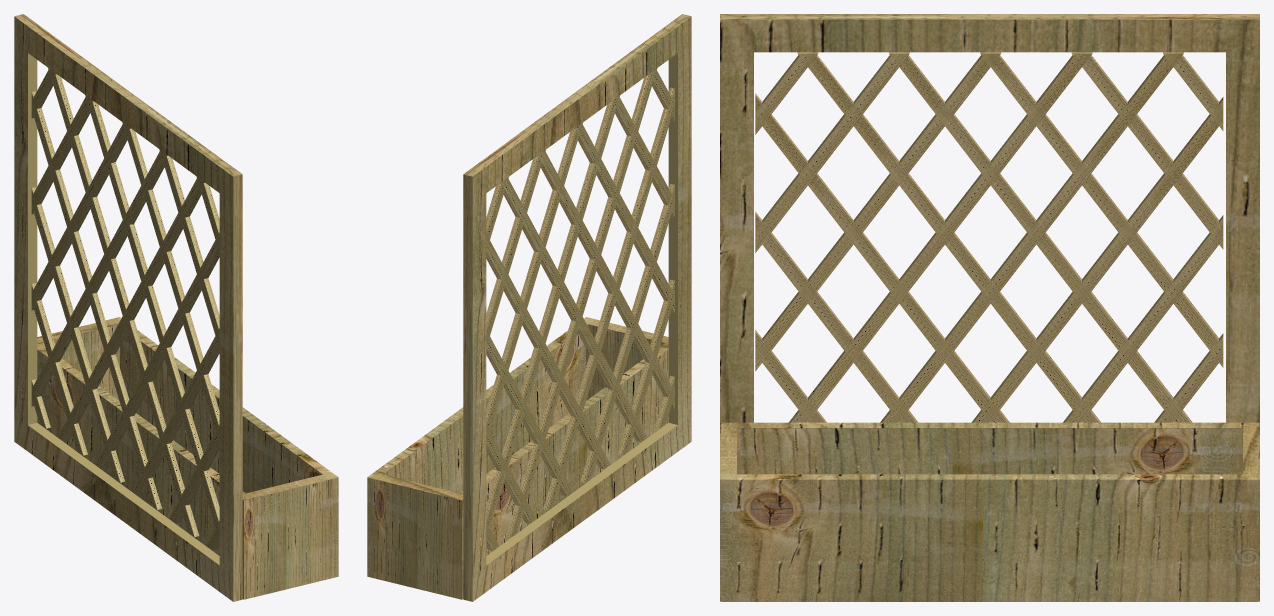
File: plantertrellissanscube.fbx
The picture shows the model from 3 angles, left to right: view 1: azimuth 30°, elevation 25°; view 2: azimuth 150°, elevation 25°; view 3: azimuth 270°, elevation 25°; orthographic projection. The views are drawn at different scales.
Parts seen in each view (by area): view 1: Cube.001, Cube, Cube.002, Cube.003; view 2: Cube.001, Cube, Cube.003, Cube.002; view 3: Cube, Cube.001, Cube.002, Cube.003.
Part boxes in pixels (x1=…): Cube.001: x1=14, y1=14, x2=242, y2=601; Cube: x1=37, y1=317, x2=338, y2=599; Cube.002: x1=31, y1=68, x2=219, y2=540; Cube.003: x1=31, y1=70, x2=219, y2=550; Cube.001: x1=463, y1=14, x2=691, y2=601; Cube: x1=367, y1=317, x2=668, y2=599; Cube.003: x1=486, y1=68, x2=674, y2=537; Cube.002: x1=486, y1=69, x2=674, y2=550; Cube: x1=720, y1=422, x2=1259, y2=601; Cube.001: x1=720, y1=14, x2=1259, y2=422; Cube.002: x1=755, y1=52, x2=1223, y2=422; Cube.003: x1=755, y1=52, x2=1223, y2=422.
Size of the model in its own units: 223 by 858 by 800.
